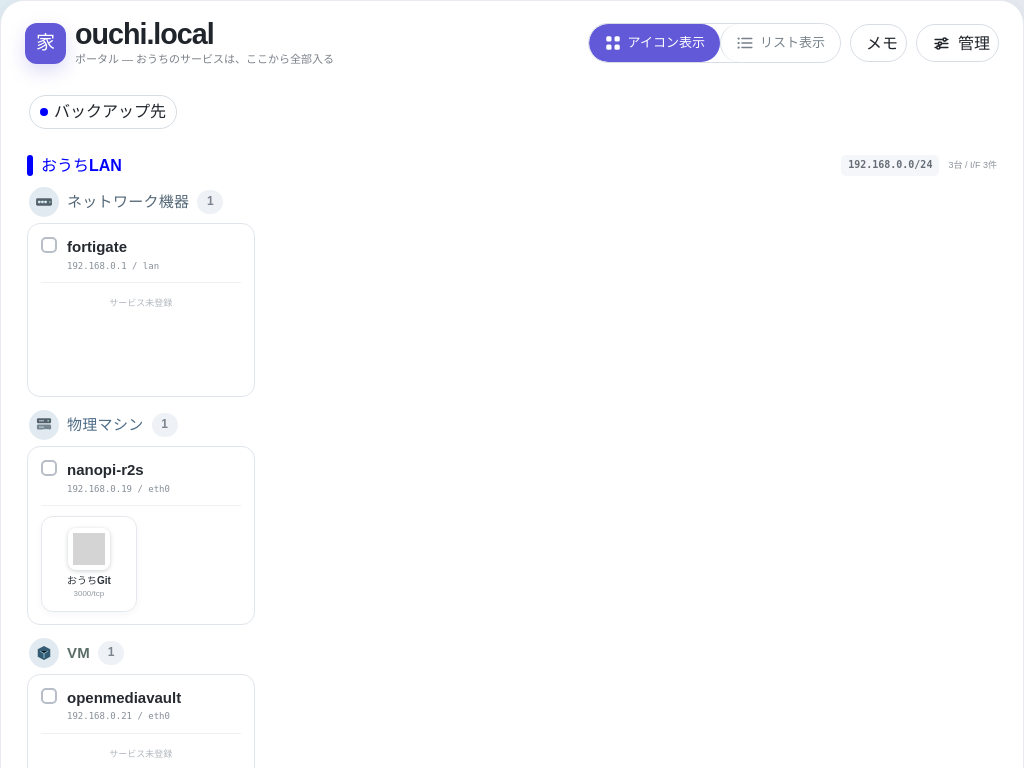
OuchiPortal › normalizes relation-name colors for the native color input
Click the button "管理": [958, 43] box [916,24,999,62]
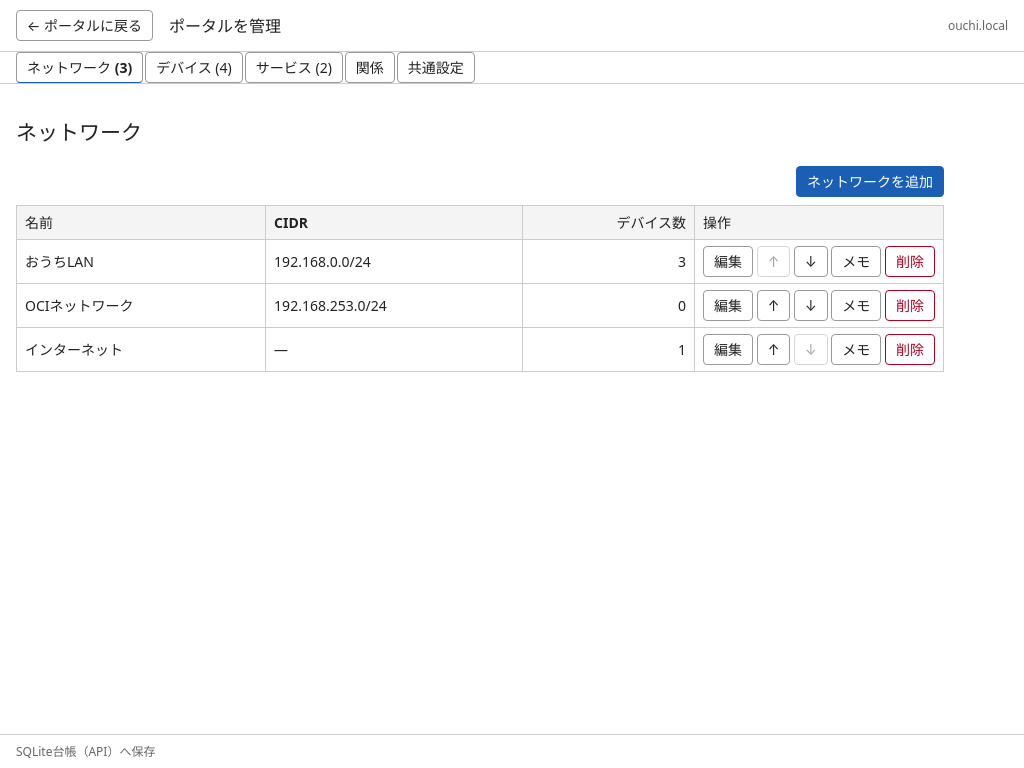
Click the tab "関係": [370, 68] box [345,52,395,83]
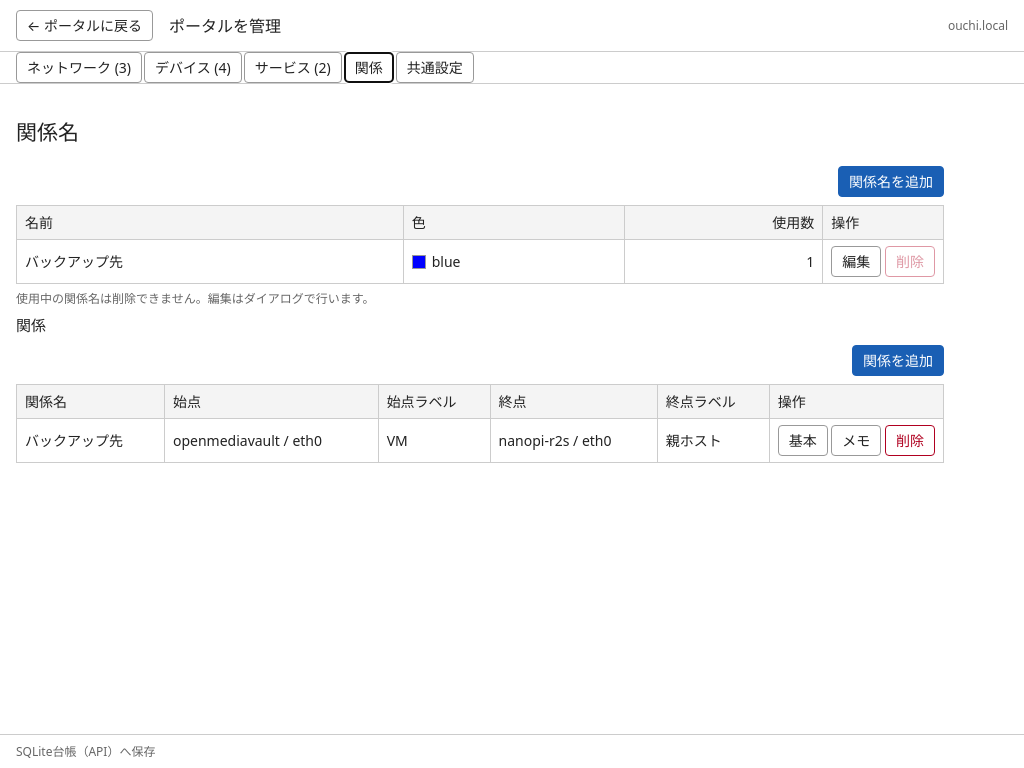
Click the button with aria-label "バックアップ先を編集": [856, 262] box [831,246,881,277]
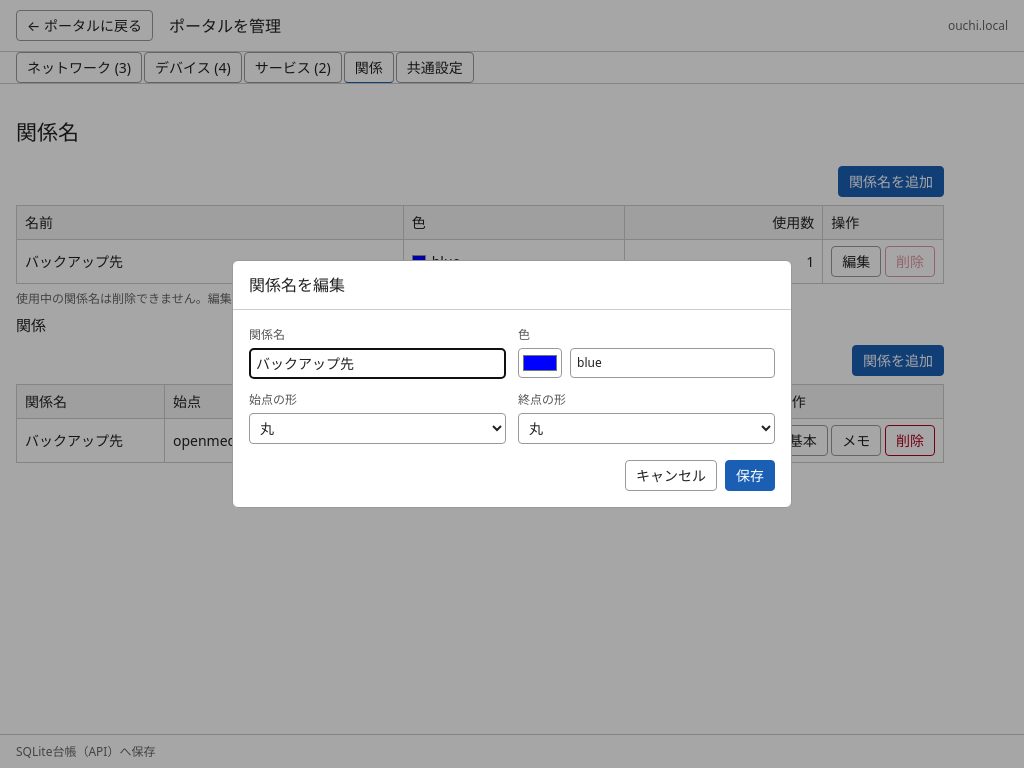
Expected: the field named "関係名の色コード" holds "blue", [570,348,775,378]
Expected: the colour field named "関係名の色" holds "#0000ff", [518,348,562,378]
